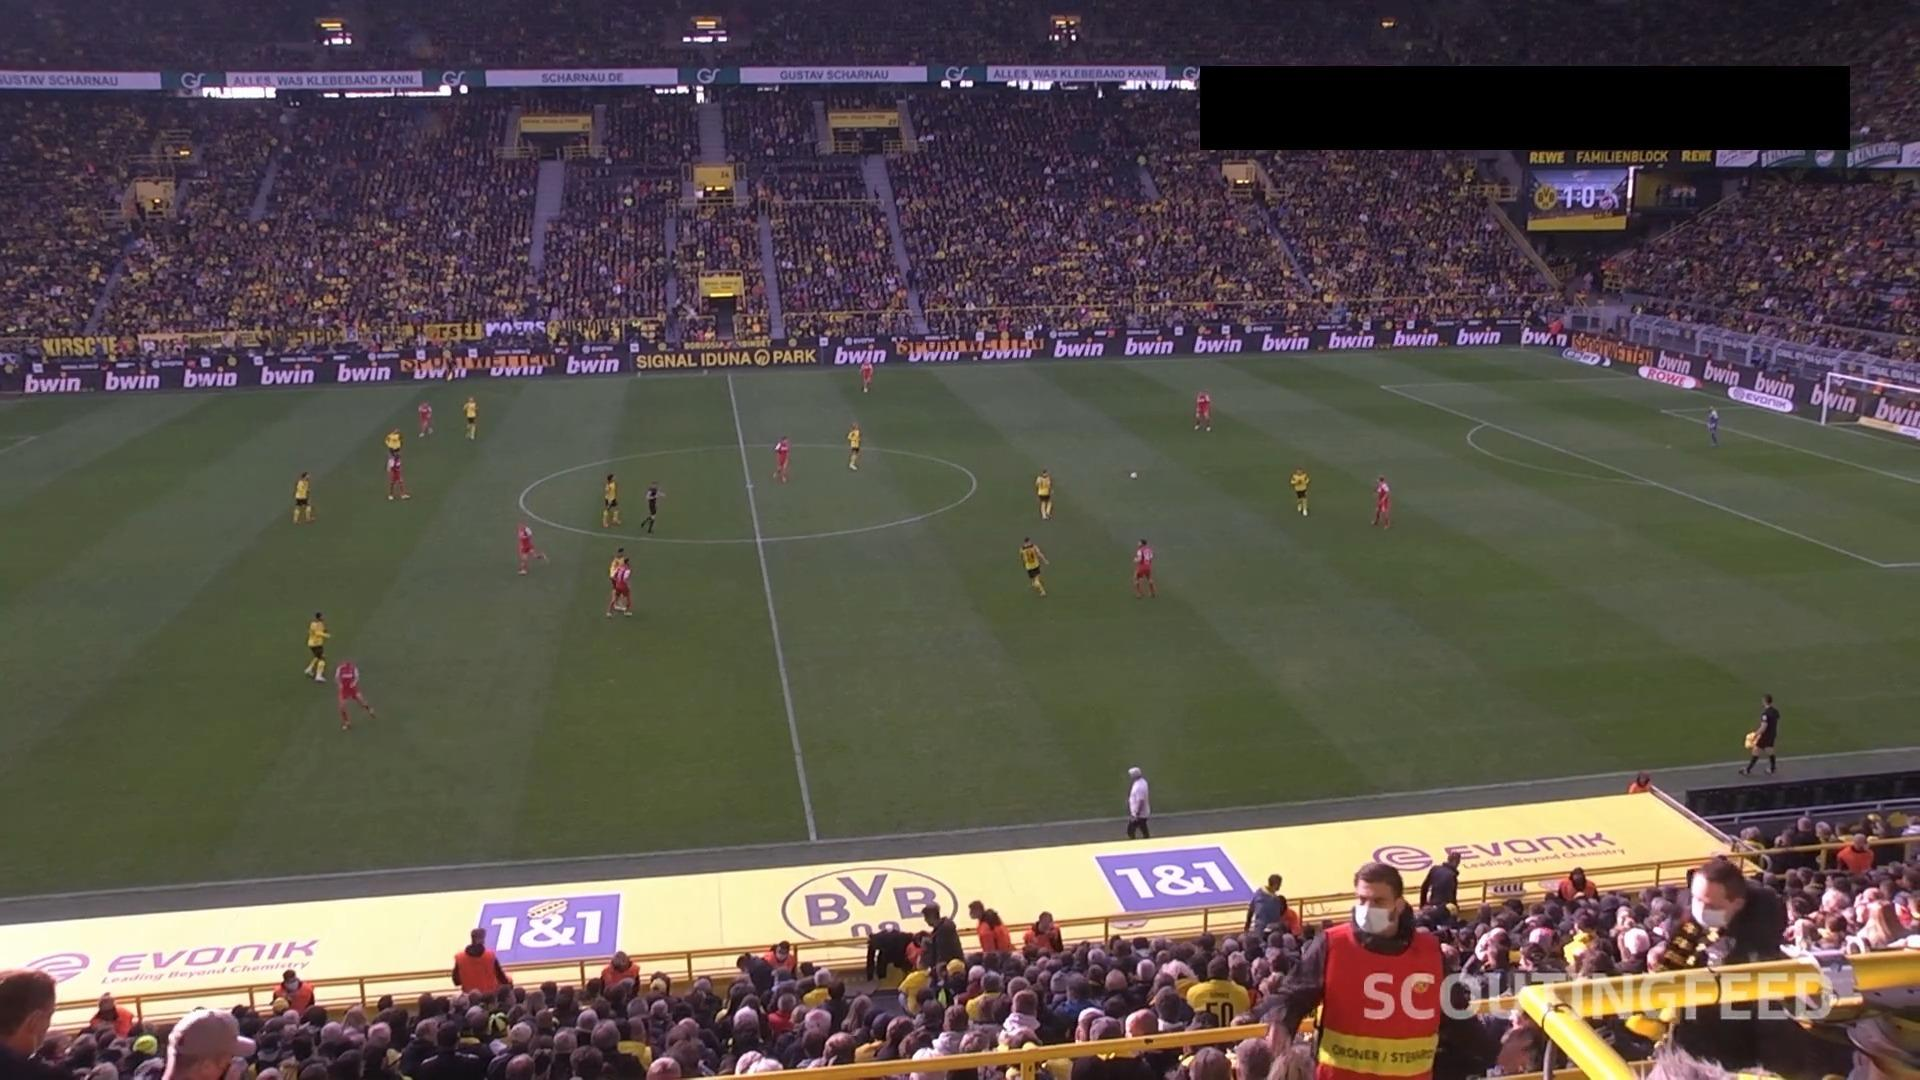ball: (1129, 469, 1138, 481)
